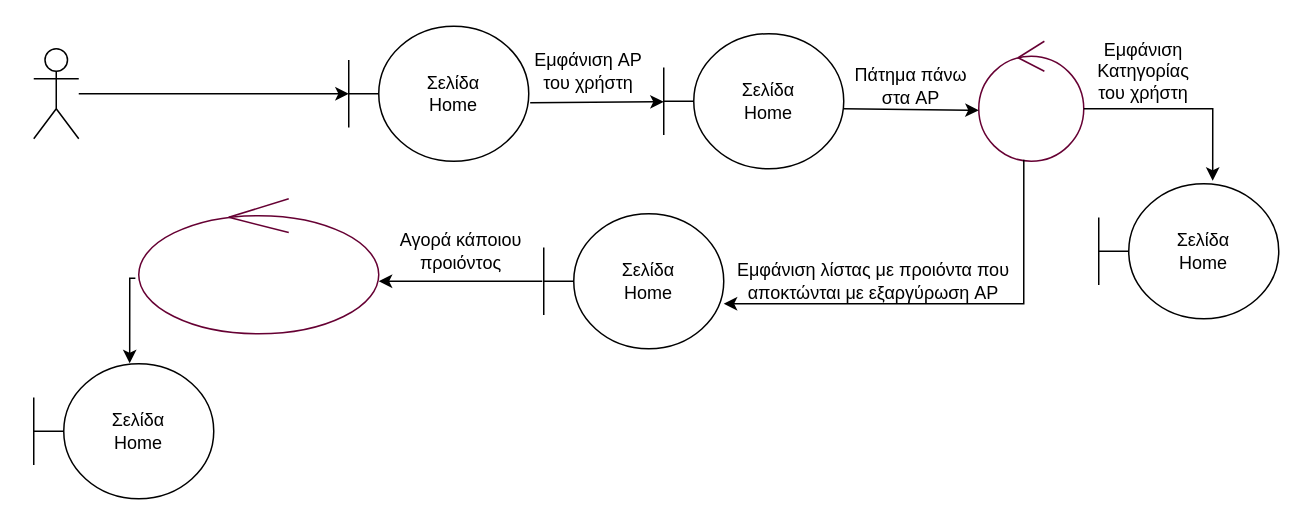
The diagram is 1305 pixels wide and 525 high, and some of its shapes have lost their labels. Here are the shapes that lost their labels. From the top down, the centre of each, then its label:
At (55,93): "Παίκτης".
At (1030,100): "Εμφάνισε".
At (258,265): "Αφαίρεσε την αξία σε AP του προιόντος από τα συνολικά AP του χρήστη".
